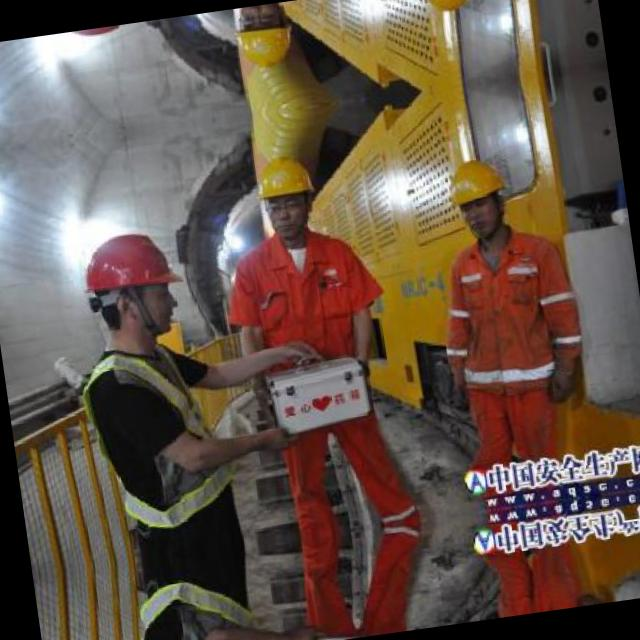helmet: (73, 213, 193, 355), (246, 143, 324, 242), (444, 146, 520, 243), (227, 1, 302, 78), (420, 0, 491, 22)
